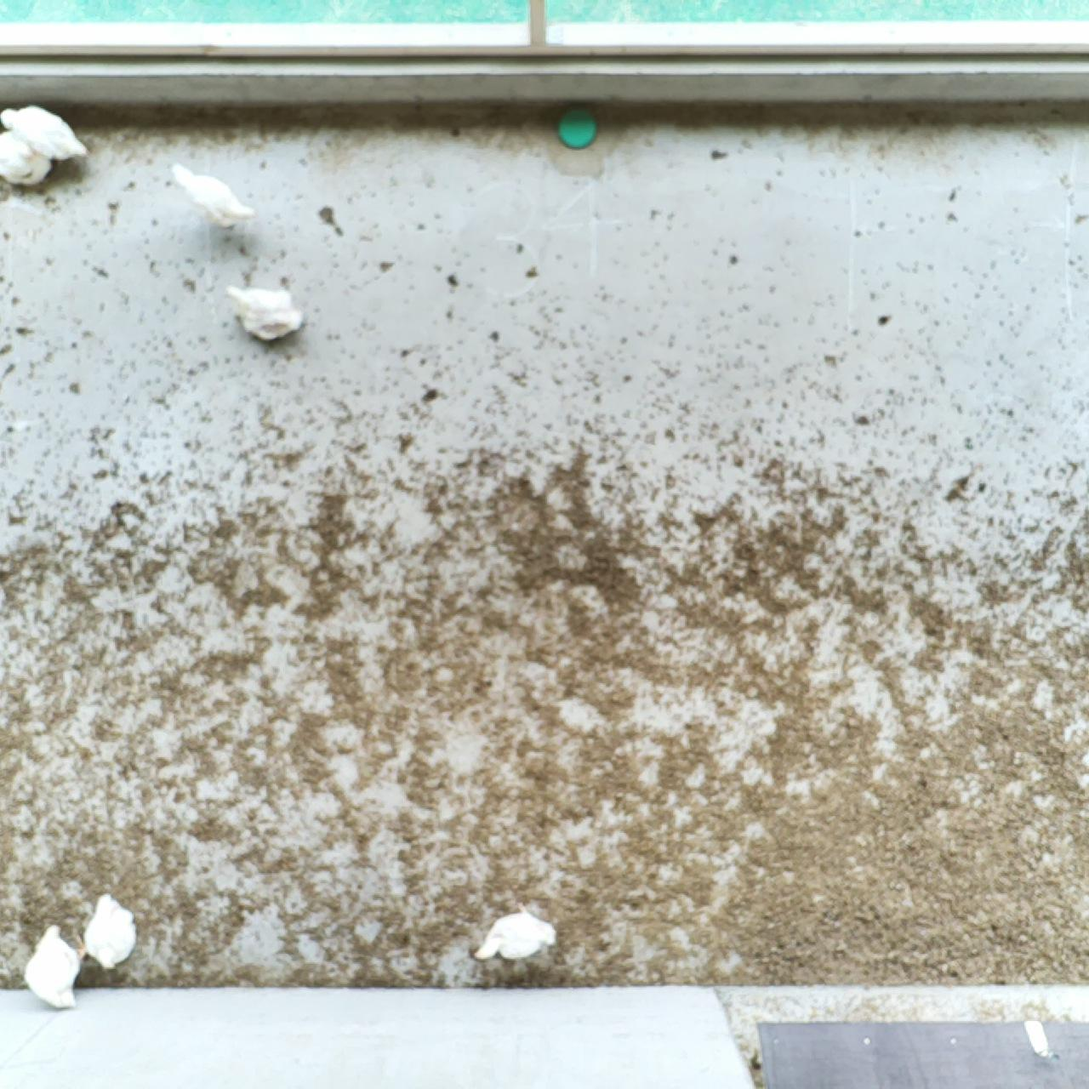chicken: (468, 896, 562, 970), (165, 160, 259, 232), (20, 919, 88, 1012), (219, 278, 308, 345), (0, 101, 94, 164), (80, 888, 142, 974), (0, 127, 57, 193)
